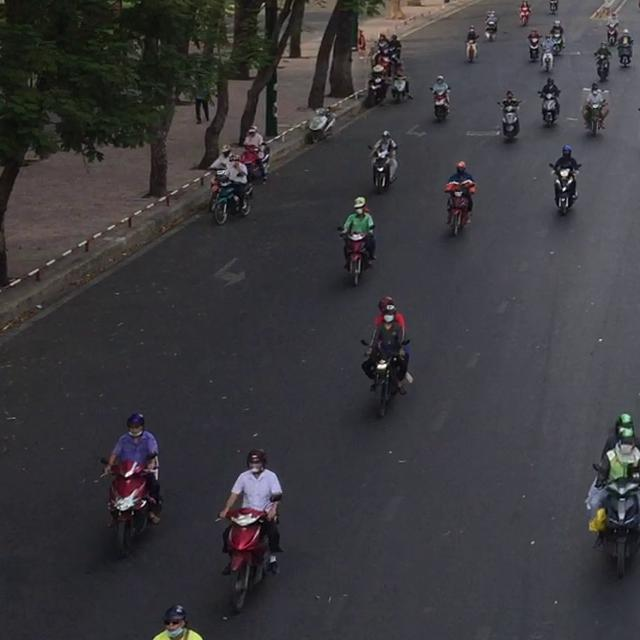Motorcycle: (214, 493, 283, 613), (98, 456, 161, 558), (587, 462, 639, 579), (360, 337, 410, 418), (207, 168, 254, 225), (336, 225, 375, 287), (444, 180, 476, 237), (548, 161, 581, 215), (367, 142, 398, 194), (582, 90, 609, 137), (240, 143, 270, 185), (306, 105, 337, 144), (496, 98, 521, 142), (367, 65, 390, 106), (536, 88, 560, 127), (429, 85, 451, 122), (389, 70, 413, 103), (539, 35, 556, 72), (593, 51, 611, 81), (549, 31, 565, 56), (464, 35, 478, 63), (527, 35, 541, 62), (605, 23, 618, 46)
